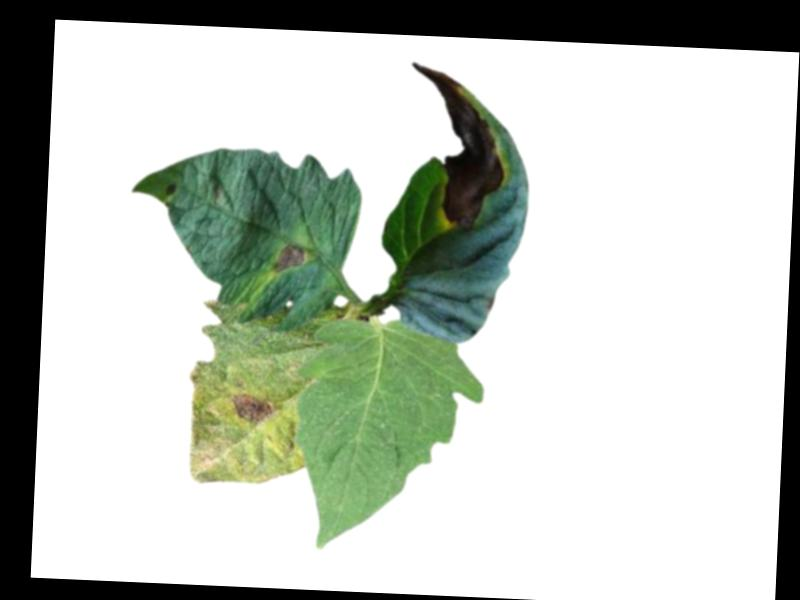Early_blight: (402, 62, 510, 235), (231, 389, 277, 425), (271, 242, 308, 276), (165, 182, 180, 198)
